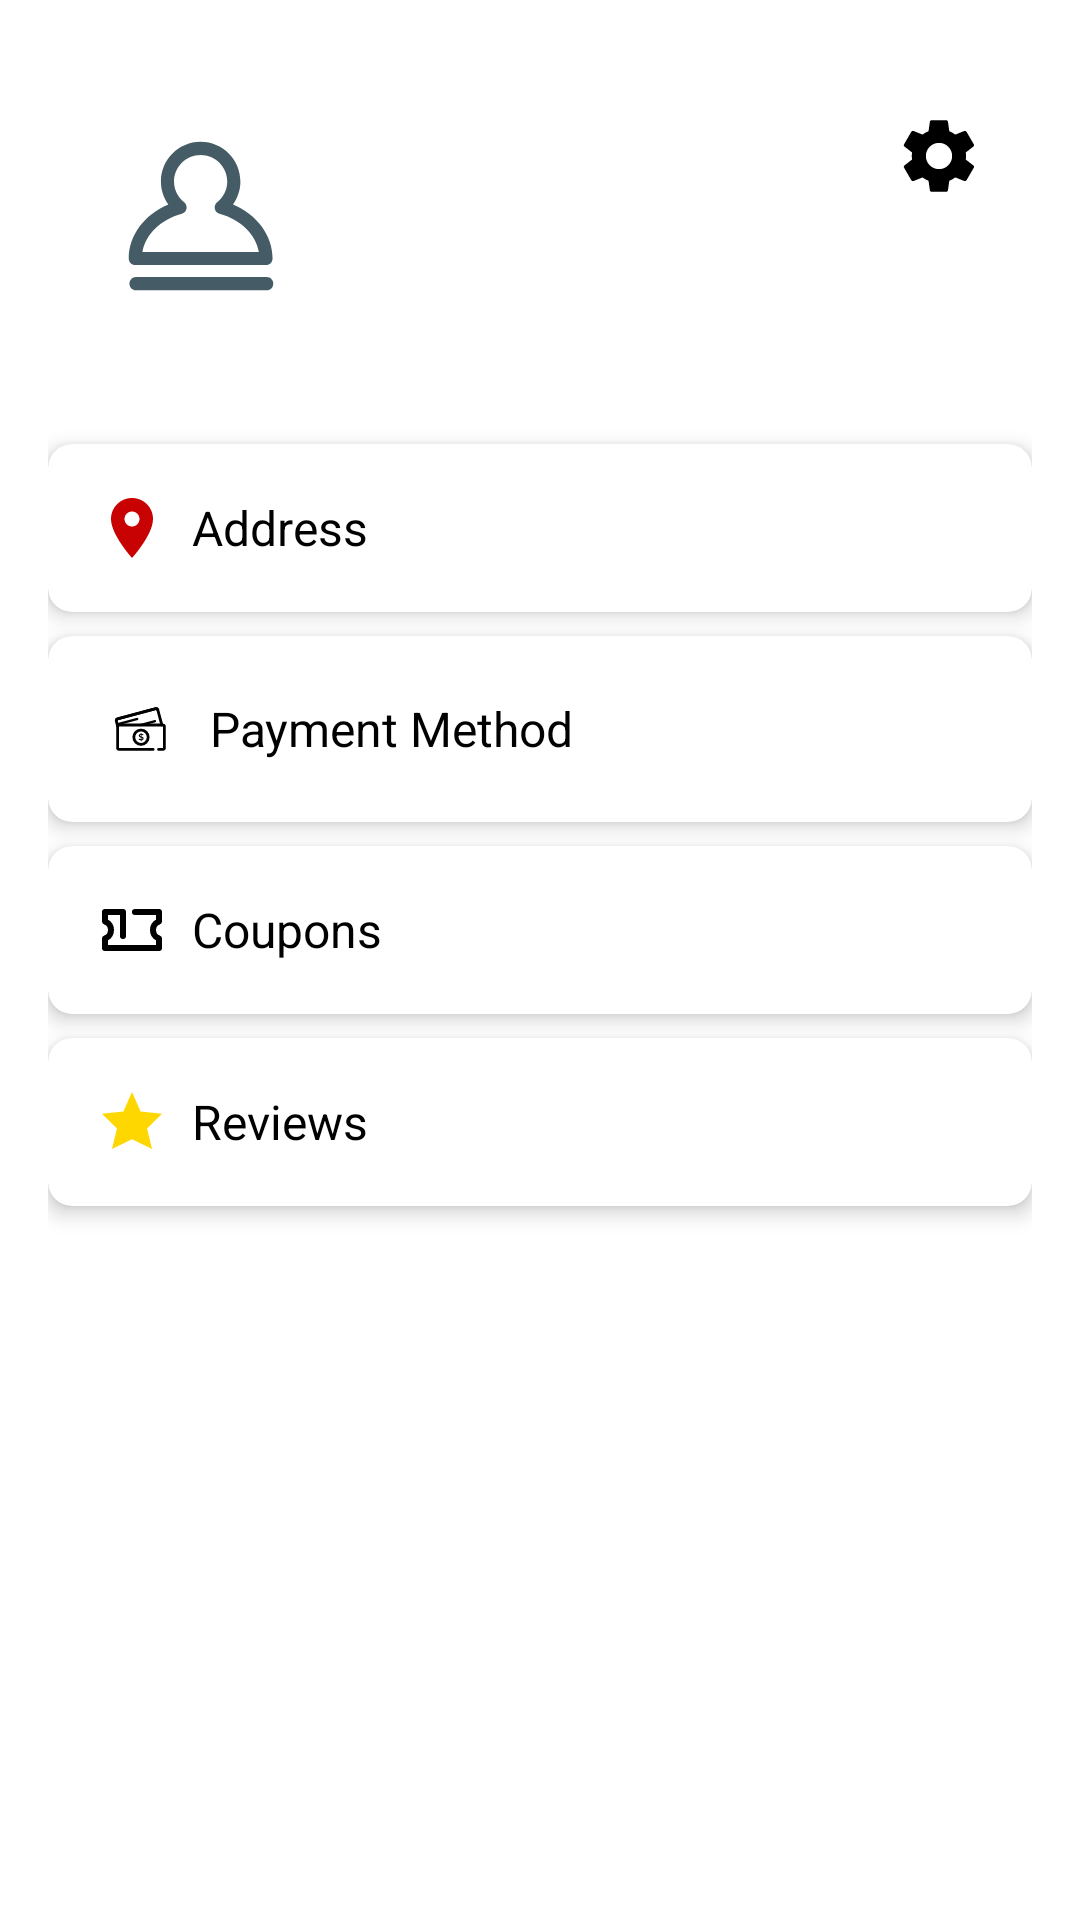

Where to tap for icons on this 1080 x 1920 app screen, as [x,y]:
location: [132,528]
settings: [938,156]
star: [132,1120]
